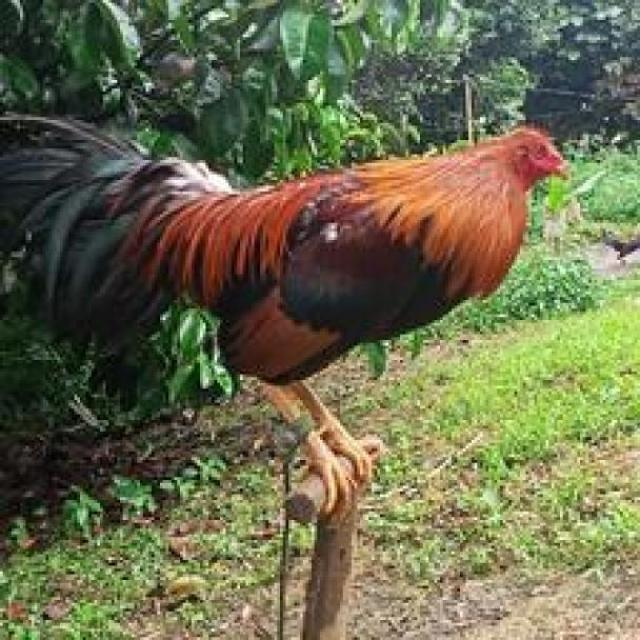Chicken: (0, 82, 585, 505)
